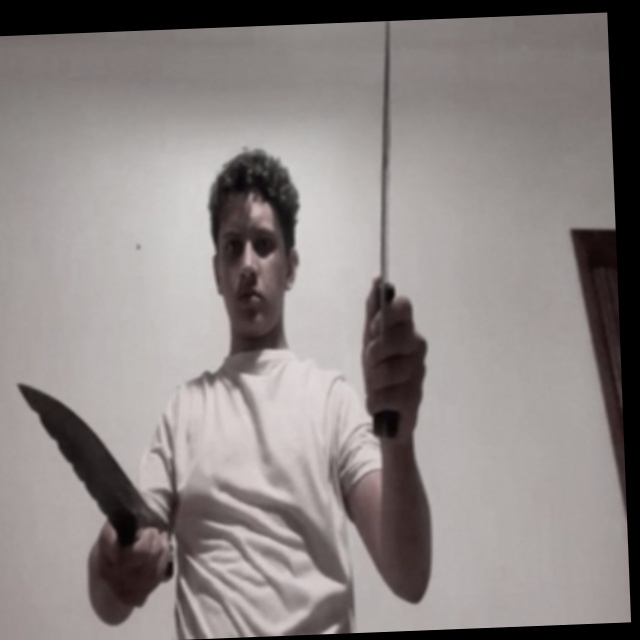Sharp-Object: (18, 382, 156, 533), (369, 35, 401, 322)
